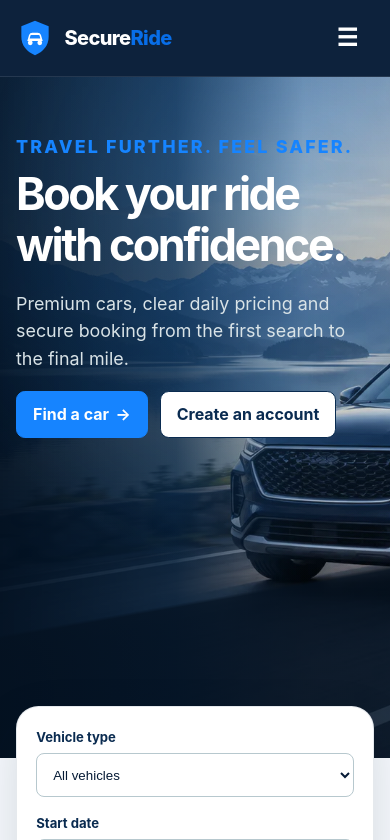
Scenario: SecureRide homepage › opens the responsive navigation
Click the button named "Toggle navigation" at (347, 38), box [320,14,374,62]
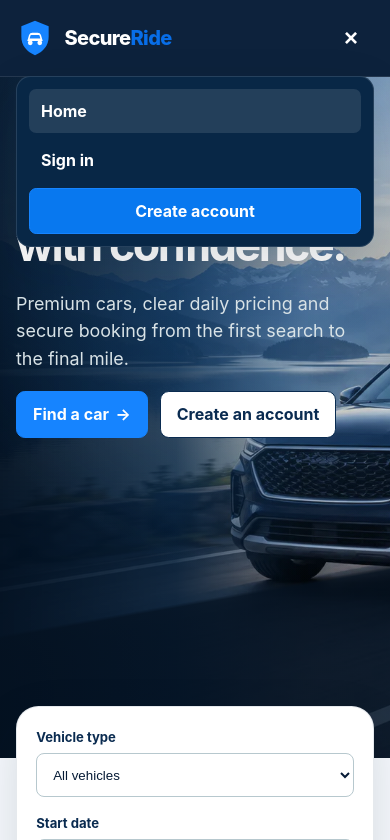
Check: the button named "Toggle navigation" is expanded, box [328,14,374,62]
